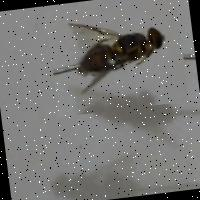Oriental-fruit-fly: (46, 0, 189, 117)
